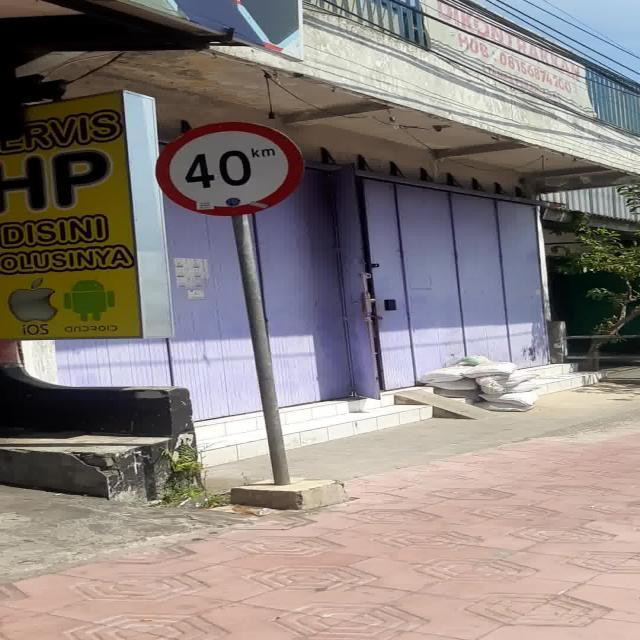Kecepatan Maks. 40 km: (154, 121, 305, 216)
